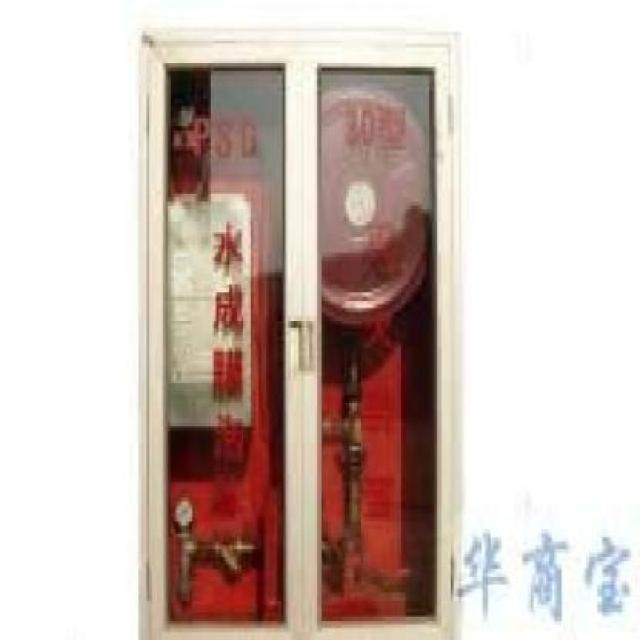firehydrant: (133, 18, 464, 640)
